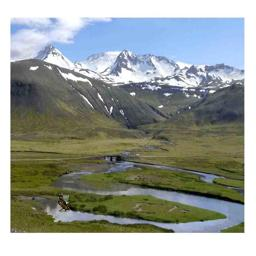Swallow: (58, 194, 70, 212)
